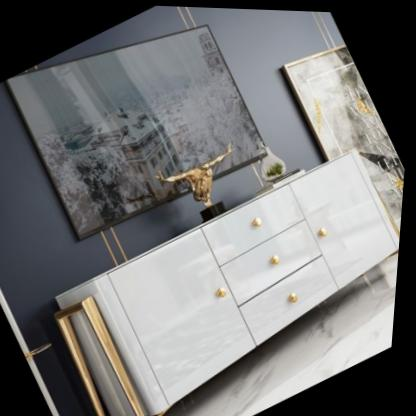Sideboard: (58, 147, 404, 416)
